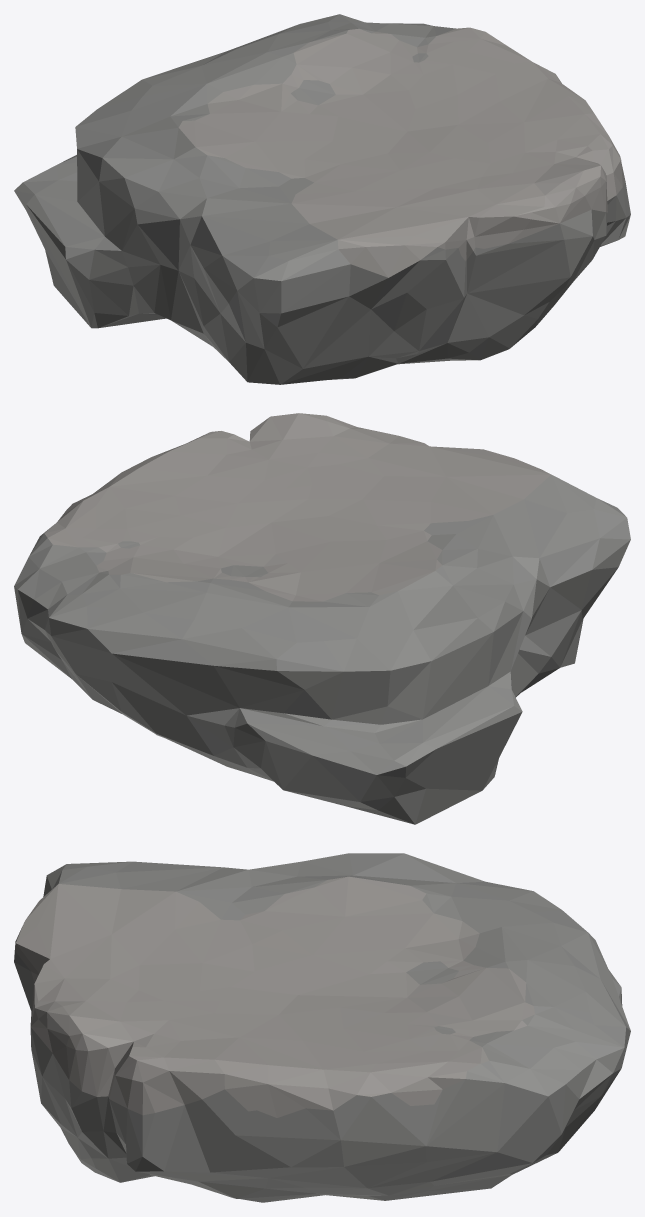
Rendered from Cavern_Floor_Border_Corner-02.fbx.
3 views of the same model, one above another, from view 1: azimuth 30°, elevation 25°; view 2: azimuth 150°, elevation 25°; view 3: azimuth 270°, elevation 25° (orthographic). The views are drawn at different scales.
Parts seen in each view (by area): view 1: Cavern_Floor_Border_Corner-02; view 2: Cavern_Floor_Border_Corner-02; view 3: Cavern_Floor_Border_Corner-02.
Part boxes in pixels (box(x1,y1,x2,y2)): Cavern_Floor_Border_Corner-02: box(14, 14, 630, 384); Cavern_Floor_Border_Corner-02: box(14, 413, 630, 824); Cavern_Floor_Border_Corner-02: box(14, 853, 630, 1202).
Bounding box in the file's own units: 1705 × 637 × 1704.
Materials: 1 (1 with a texture image).
